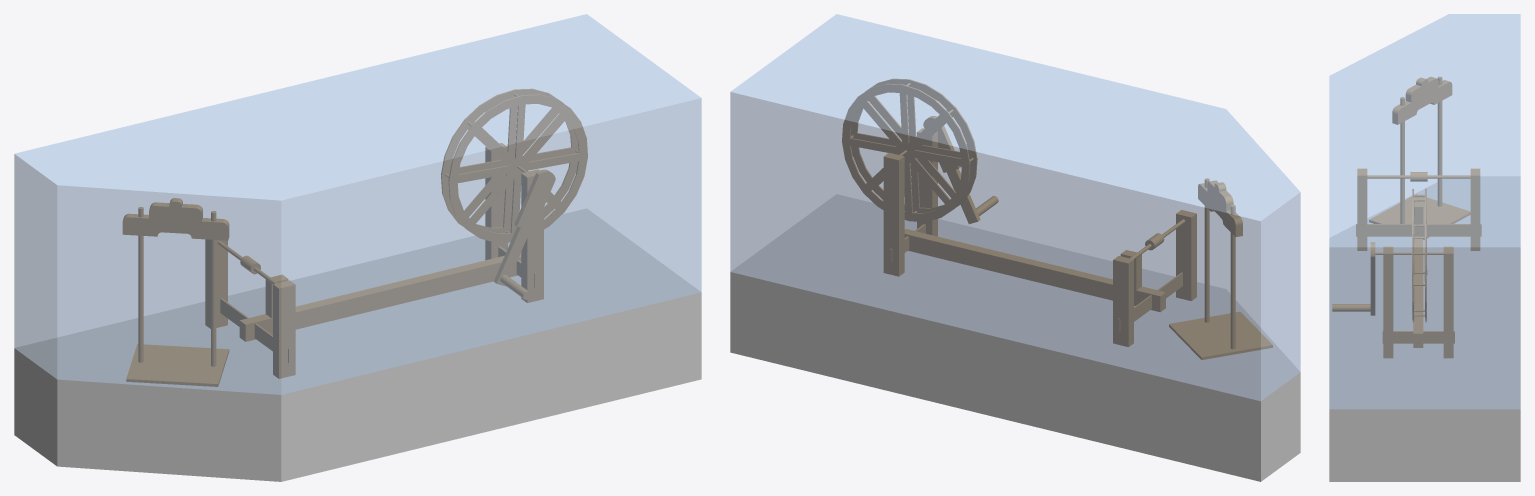
The model's file is guong_nuoc.glb.
The picture shows the model from 3 angles, left to right: view 1: azimuth 30°, elevation 25°; view 2: azimuth 150°, elevation 25°; view 3: azimuth 270°, elevation 25°; orthographic projection. The views are drawn at different scales.
Parts seen in each view (by area): view 1: Model, Group1, Group2, Group3, Group4; view 2: Model, Group1, Group2, Group3, Group4; view 3: Model, Group1, Group3, Group2, Group4.
Part boxes in pixels (bbox=[...]): Model: bbox=[14, 14, 701, 481]; Group1: bbox=[126, 143, 543, 386]; Group2: bbox=[441, 88, 587, 242]; Group3: bbox=[122, 198, 229, 240]; Group4: bbox=[494, 169, 555, 299]; Model: bbox=[730, 14, 1300, 481]; Group1: bbox=[883, 128, 1272, 359]; Group2: bbox=[842, 78, 977, 221]; Group3: bbox=[1198, 180, 1242, 236]; Group4: bbox=[923, 116, 998, 223]; Model: bbox=[1329, 14, 1520, 481]; Group1: bbox=[1356, 76, 1481, 358]; Group3: bbox=[1392, 77, 1452, 124]; Group2: bbox=[1412, 188, 1427, 322]; Group4: bbox=[1332, 242, 1375, 315].
Bounding box in the file's own units: 80.43 × 37.76 × 27.93.
